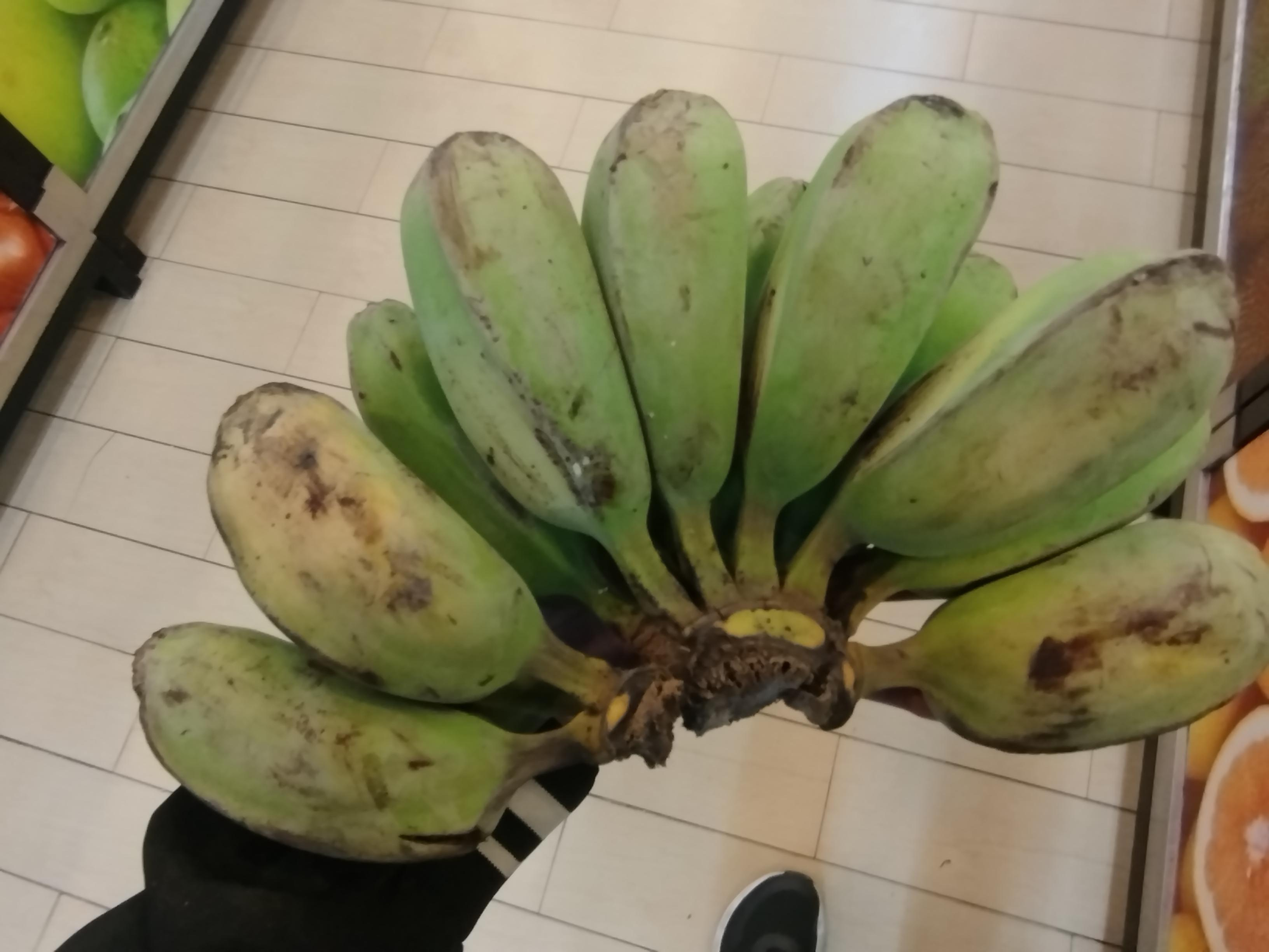underripe: (133, 90, 1269, 862)
